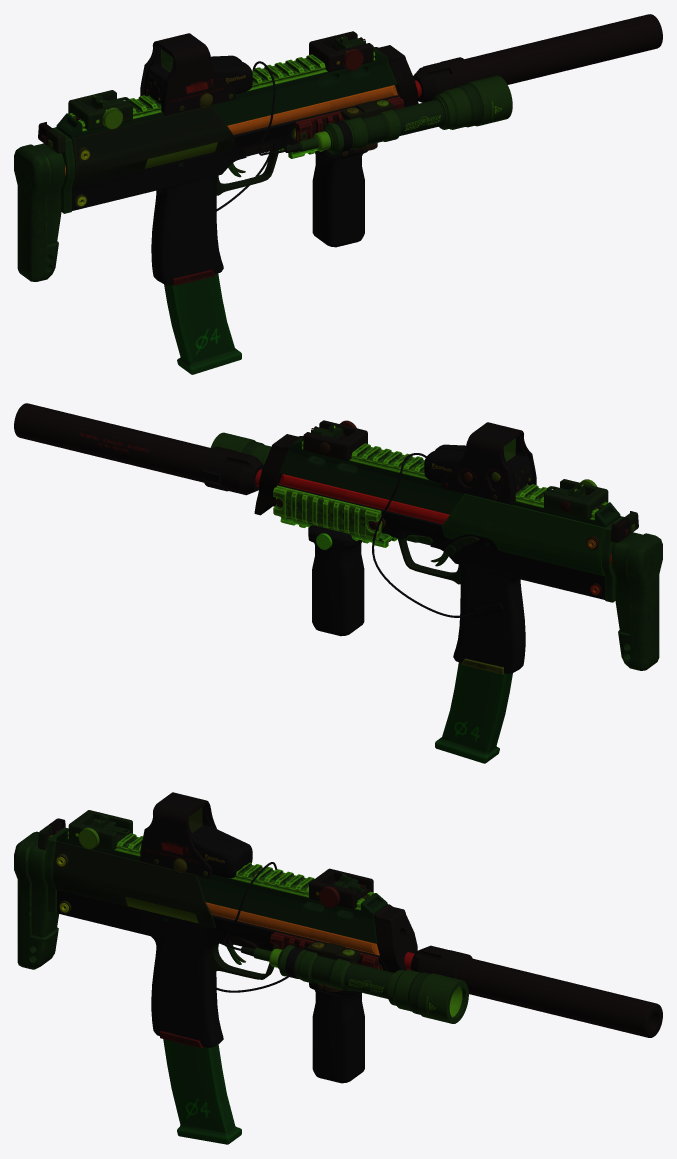
3 renders of one model, top to bottom at view 1: azimuth 30°, elevation 25°; view 2: azimuth 150°, elevation 25°; view 3: azimuth 330°, elevation 25°, orthographic.
Visible parts, largest first — view 1: polySurface114_Suppressor_MAT_0; view 2: polySurface114_Suppressor_MAT_0; view 3: polySurface114_Suppressor_MAT_0.
Boxes of the visible parts, <box> form: polySurface114_Suppressor_MAT_0: <box>14,14,662,374</box>; polySurface114_Suppressor_MAT_0: <box>14,403,662,763</box>; polySurface114_Suppressor_MAT_0: <box>14,792,662,1144</box>.
Bounding box in the file's own units: 4 × 1.99 × 0.5391.
9 materials, 9 textured.
